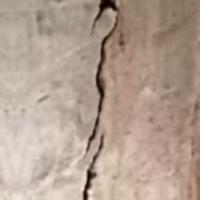crack: (63, 1, 130, 199)
